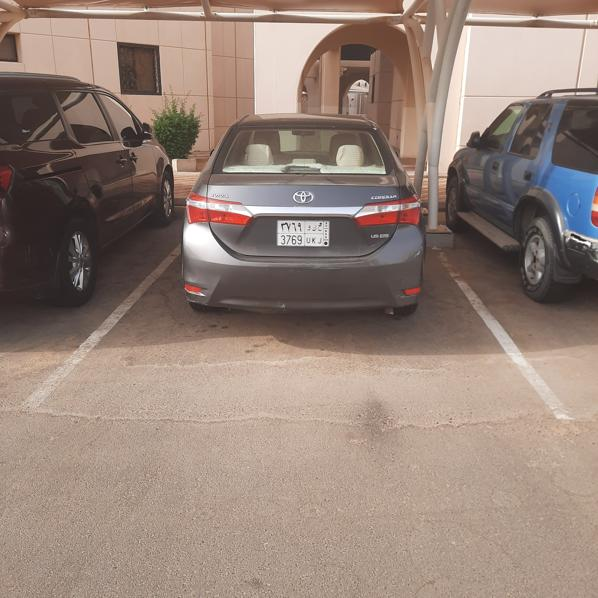numberplate: (277, 220, 330, 246)
